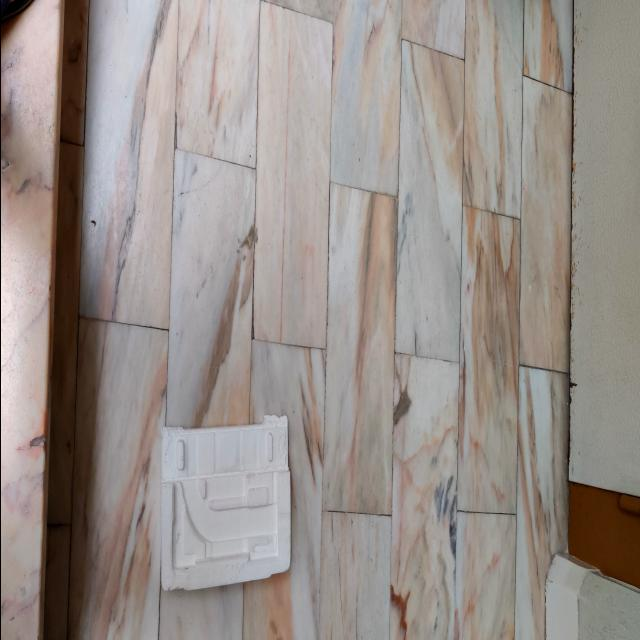Styrofoam piece: (160, 414, 289, 591)
